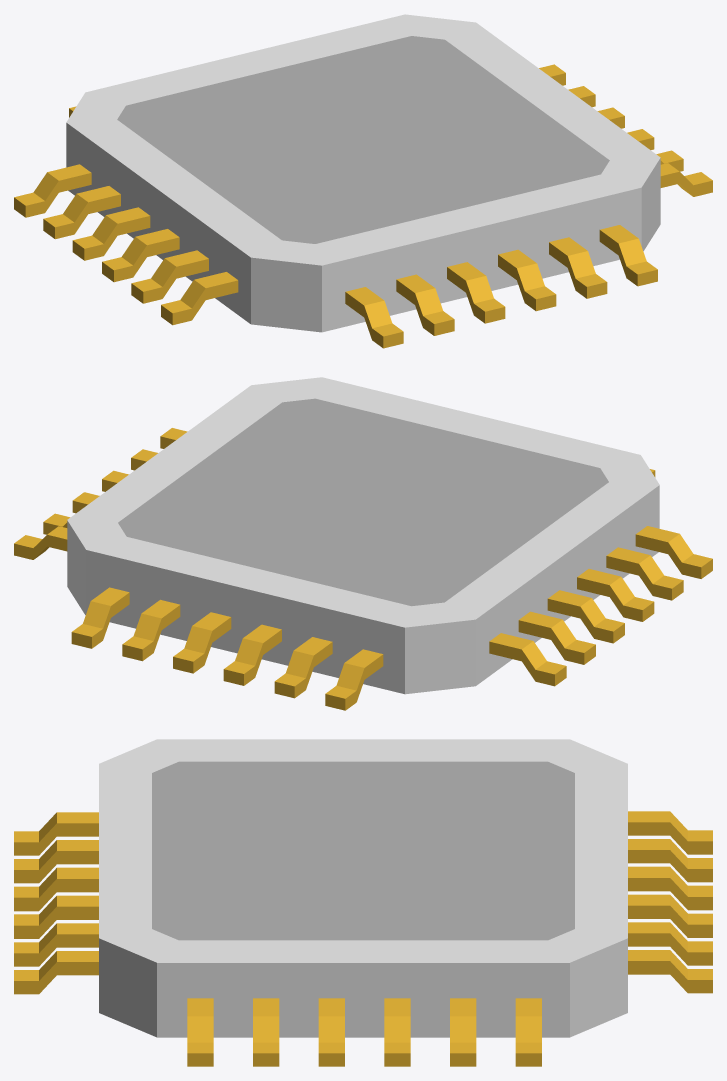
File: FlashMemoryCell.fbx
3 views of the same model, one above another, from view 1: azimuth 30°, elevation 25°; view 2: azimuth 150°, elevation 25°; view 3: azimuth 270°, elevation 25° (orthographic). The views are drawn at different scales.
Visible parts, largest first — view 1: FlashMemoryCell; view 2: FlashMemoryCell; view 3: FlashMemoryCell.
Part boxes in pixels (box(x1,y1,x2,y2)): FlashMemoryCell: box(14, 14, 712, 348); FlashMemoryCell: box(14, 377, 712, 710); FlashMemoryCell: box(14, 739, 712, 1066).
Bounding box in the file's own units: 53.14 × 6.27 × 53.14.
